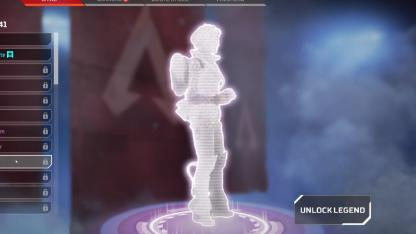Target: (164, 16, 236, 204)
